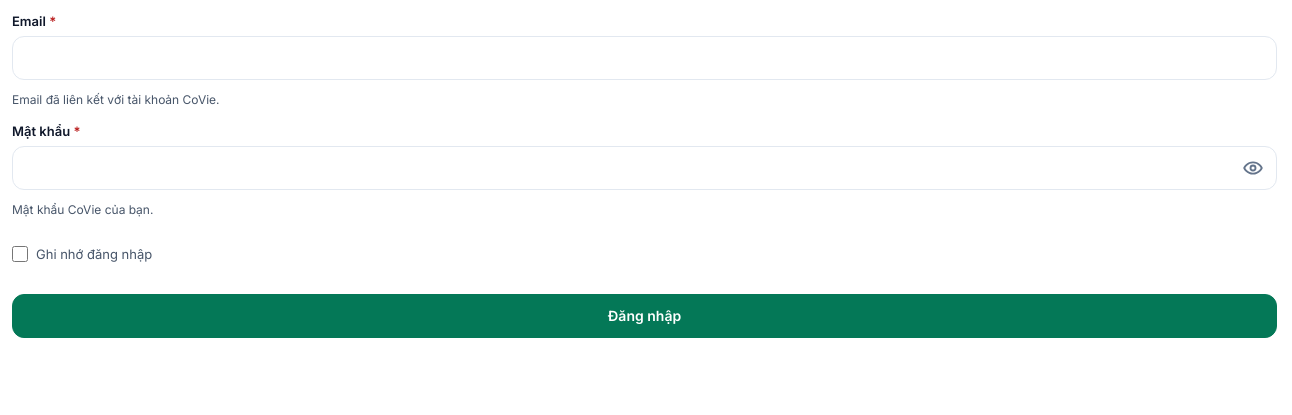
Test: maps invalid credentials by error code without showing the backend message
The image size is (1292, 415).
Type "person@example.com" into the field labelled "Email". click: [644, 58]
box: 12,36 -> 1277,80
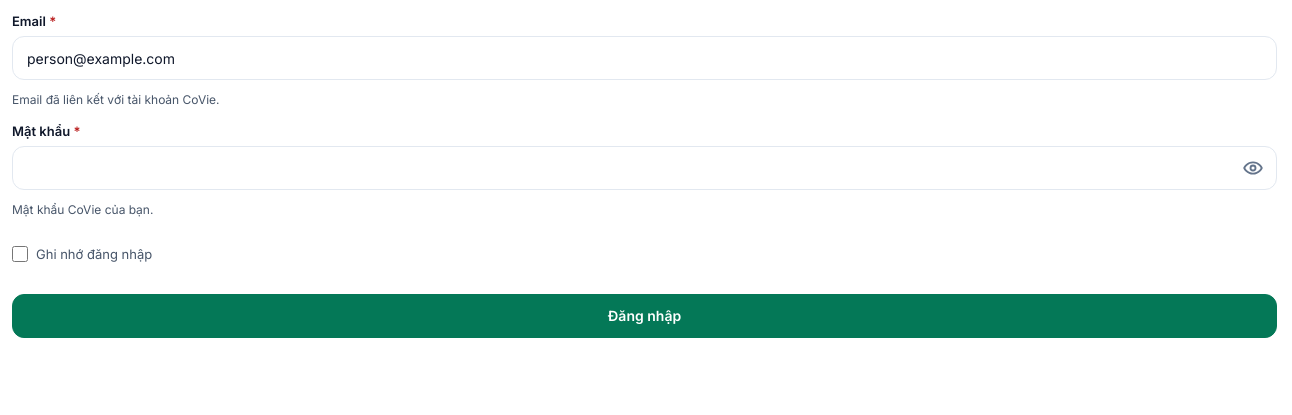
Type "password" into the password field labelled "Mật khẩu". click: [644, 168]
box: 12,146 -> 1277,190
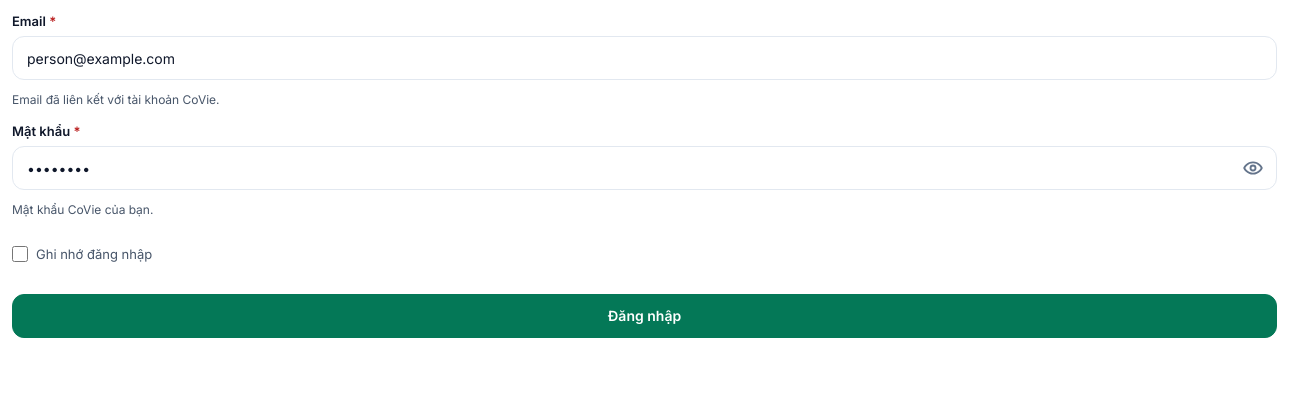
Click the button "Đăng nhập". click: [644, 316]
box: 12,294 -> 1277,338
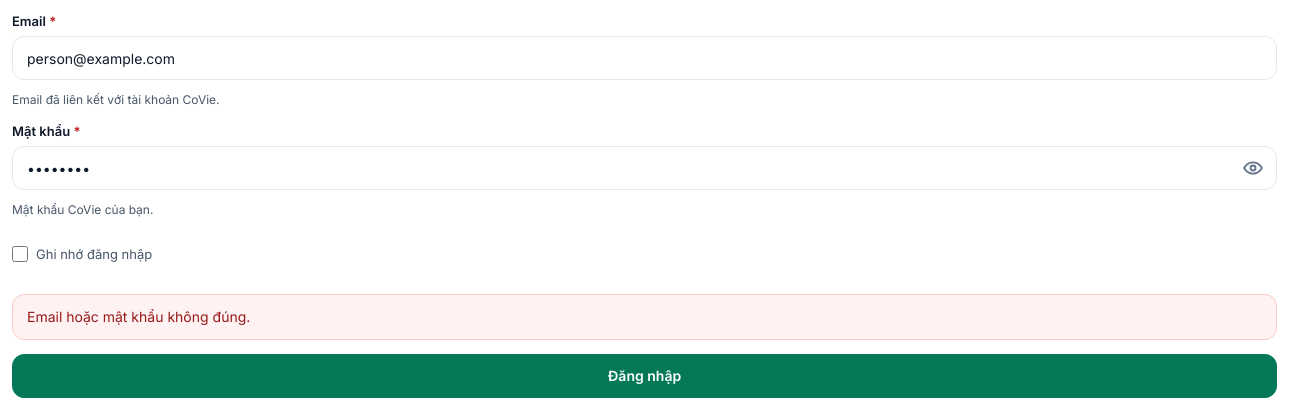
expect the message reads "Email hoặc mật khẩu không đúng.": met, box 27,308 -> 250,325
